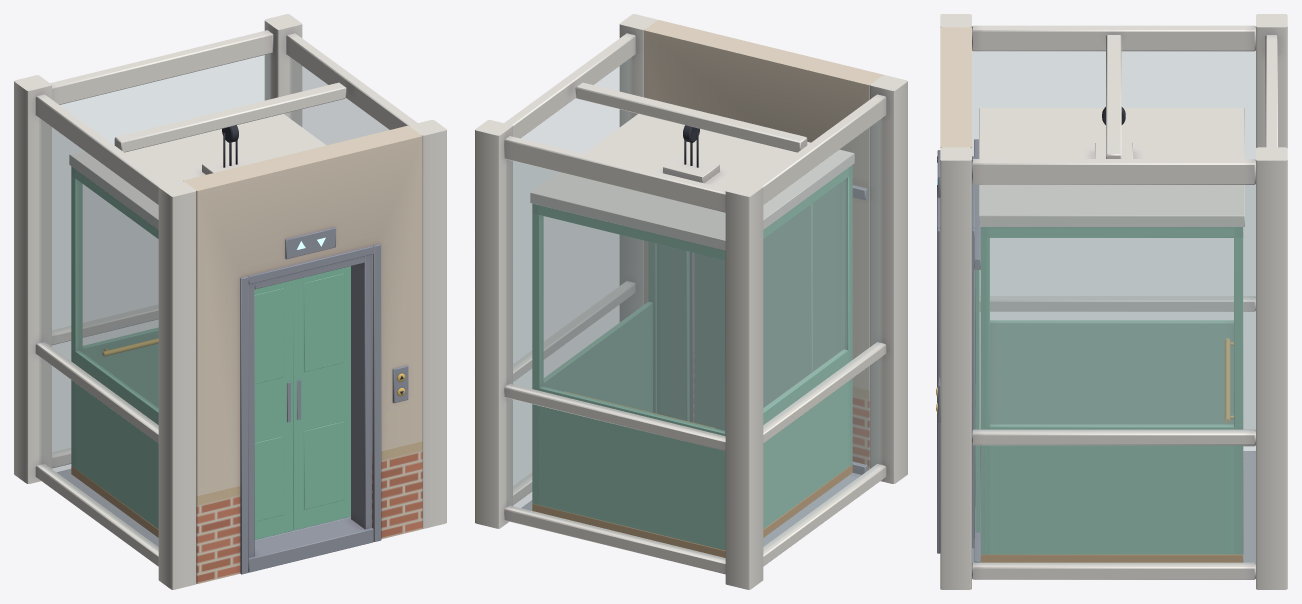
Rendered from elevator.glb.
3 views of the same model, side by side, from view 1: azimuth 30°, elevation 25°; view 2: azimuth 150°, elevation 25°; view 3: azimuth 270°, elevation 25° (orthographic). The views are drawn at different scales.
Visible parts, largest first — view 1: elevator_body, elevator_glass_shaft, elevator_cabin, elevator_slide_right, elevator_glass_cabin, elevator_slide_left; view 2: elevator_glass_shaft, elevator_body, elevator_cabin, elevator_glass_cabin, elevator_slide_left, elevator_slide_right; view 3: elevator_glass_shaft, elevator_cabin, elevator_body, elevator_glass_cabin, elevator_slide_right.
Boxes of the visible parts, bbox=[...] form: elevator_body: bbox=[14, 14, 446, 589]; elevator_glass_shaft: bbox=[39, 54, 388, 551]; elevator_cabin: bbox=[69, 114, 326, 537]; elevator_slide_right: bbox=[293, 266, 350, 530]; elevator_glass_cabin: bbox=[77, 181, 158, 409]; elevator_slide_left: bbox=[254, 280, 293, 539]; elevator_glass_shaft: bbox=[506, 57, 882, 559]; elevator_body: bbox=[475, 14, 907, 589]; elevator_cabin: bbox=[530, 114, 854, 557]; elevator_glass_cabin: bbox=[541, 179, 846, 431]; elevator_slide_left: bbox=[763, 204, 812, 407]; elevator_slide_right: bbox=[694, 253, 724, 430]; elevator_glass_shaft: bbox=[972, 51, 1255, 564]; elevator_cabin: bbox=[979, 108, 1244, 562]; elevator_body: bbox=[936, 14, 1287, 589]; elevator_glass_cabin: bbox=[990, 238, 1233, 425]; elevator_slide_right: bbox=[975, 270, 979, 532].
Bounding box in the file's own units: 2.2 × 3 × 2.22.
Materials: 8 (4 with a texture image).
